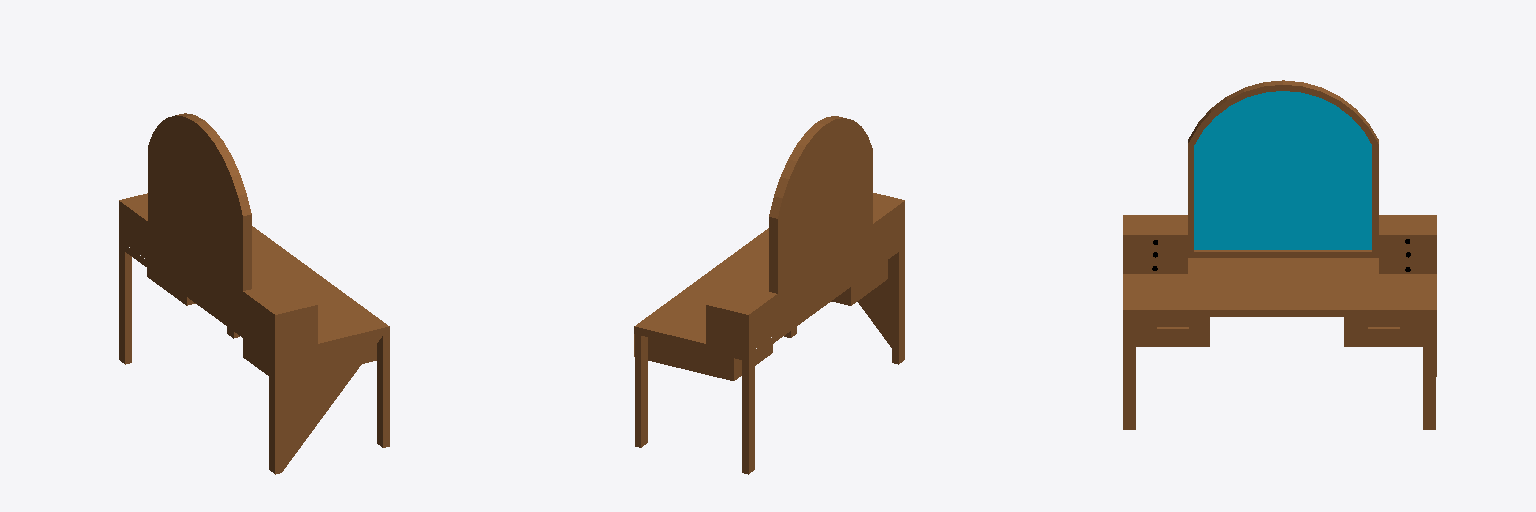
Rendered from Dresser1.obj.
3 views of the same model, side by side, from view 1: azimuth 30°, elevation 25°; view 2: azimuth 150°, elevation 25°; view 3: azimuth 270°, elevation 25° (orthographic).
Visible parts, largest first — view 1: Mesh1 Model; view 2: Mesh1 Model; view 3: Mesh1 Model.
Boxes of the visible parts, x1=… form: Mesh1 Model: x1=119, y1=113, x2=389, y2=474; Mesh1 Model: x1=634, y1=116, x2=904, y2=474; Mesh1 Model: x1=1123, y1=80, x2=1436, y2=429.
Size of the model in its own units: 36.17 by 86.02 by 83.25.